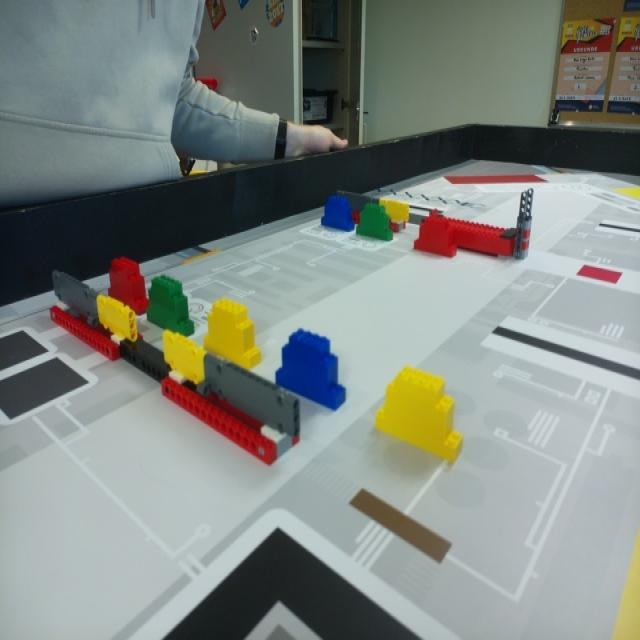blau: (277, 330, 347, 412), (320, 195, 352, 232)
gruen: (148, 274, 194, 336), (357, 203, 394, 242)
rot: (107, 256, 149, 314), (413, 214, 458, 258)
yellow: (376, 366, 464, 464), (204, 298, 262, 368)
